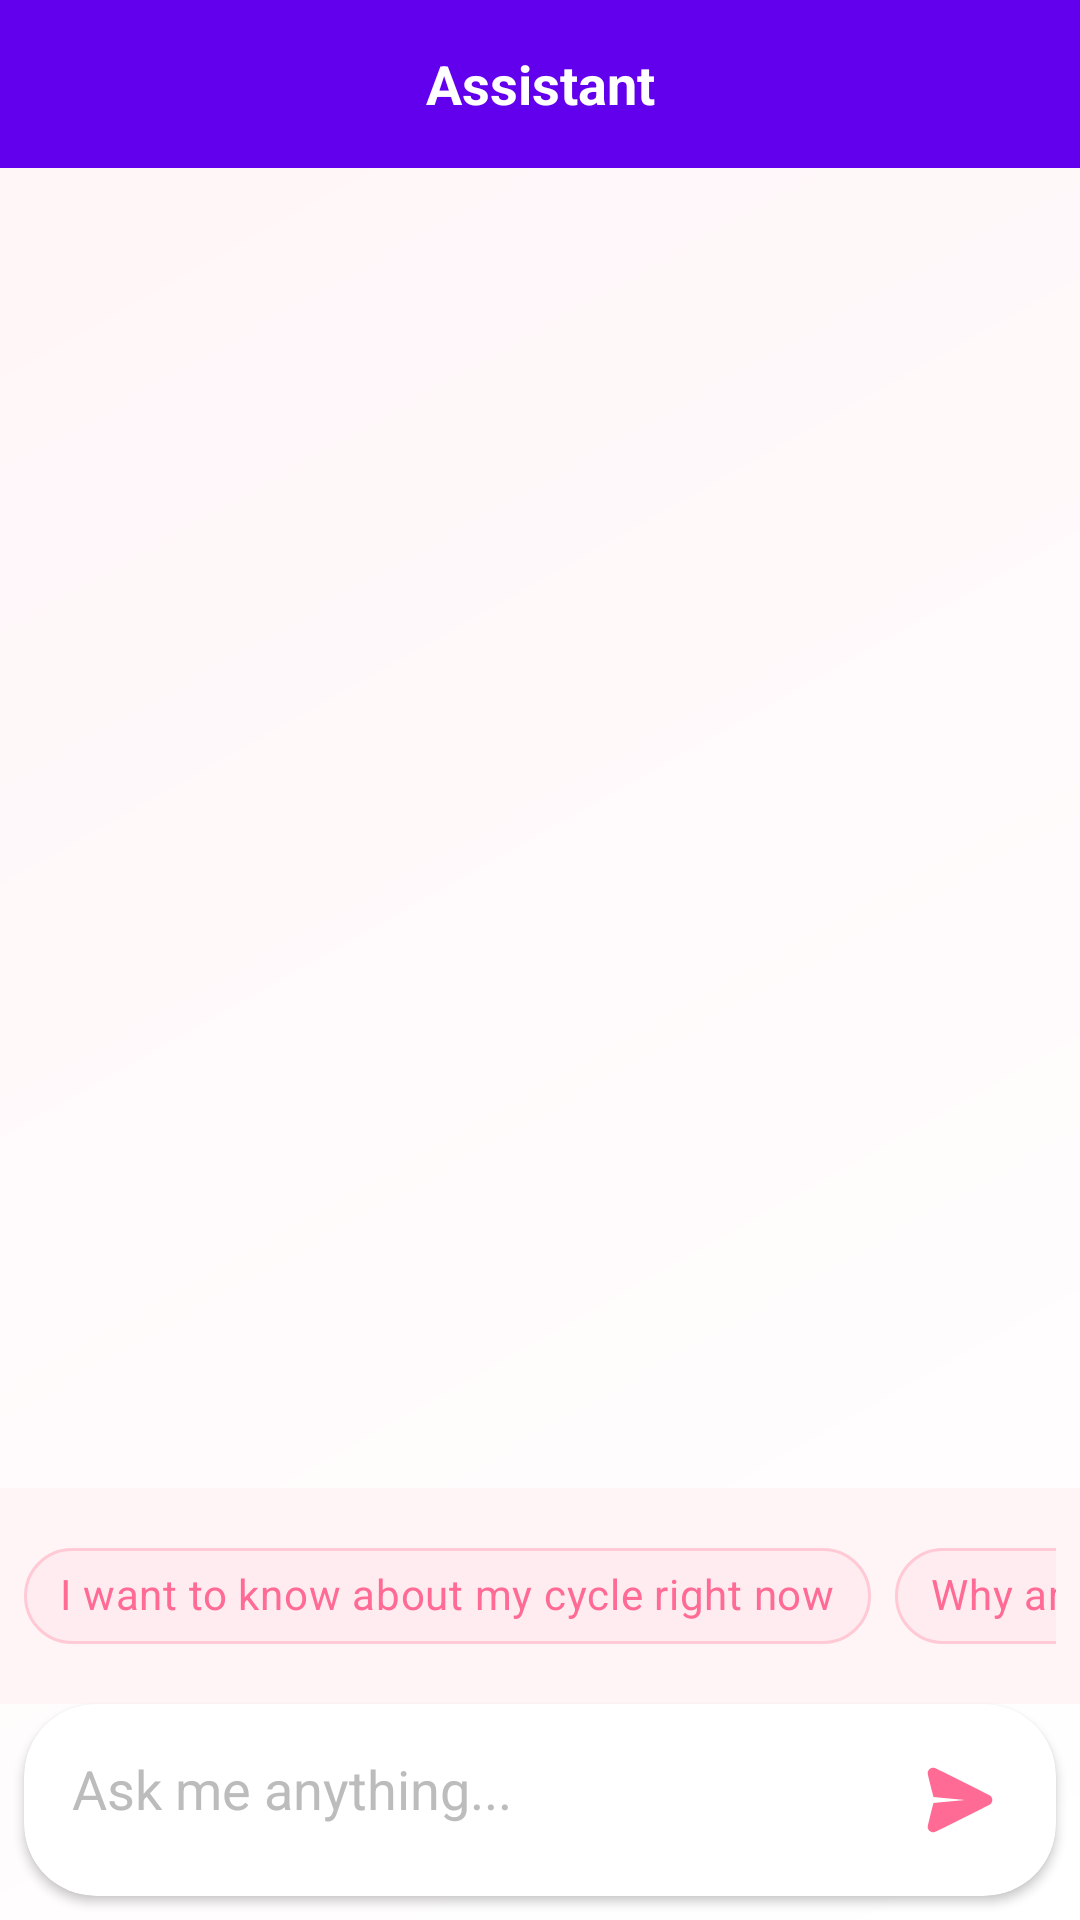

Where icons sit on this 1080*1920 app screen, as [left=x1, top=y1, right=x2, bottom=y2]:
Send message: [left=927, top=1767, right=993, bottom=1833]
